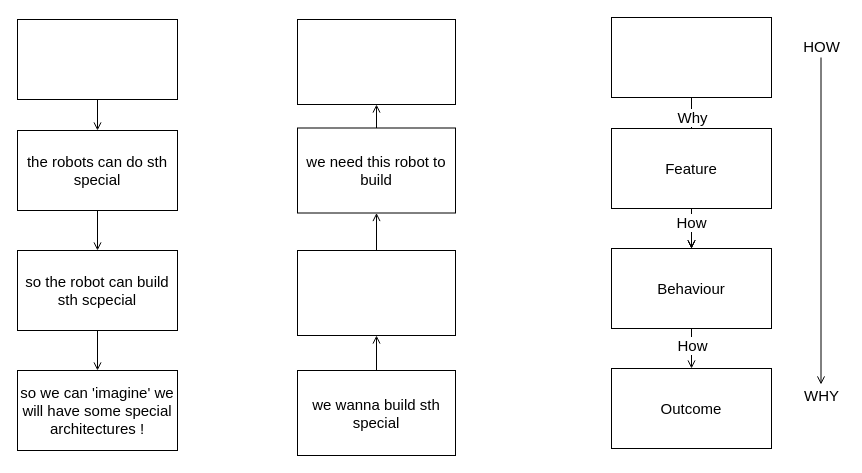
Image size: 862x473. Some labels were removed from this diagram. Here are the shapes that lost their labels. From the top down, the box of each, then its label:
(16, 18, 178, 100): we have some robots
(296, 18, 456, 104): we can design(image) this robot for that!
(610, 16, 772, 98): Tool
(296, 250, 456, 336): to build, what we need
